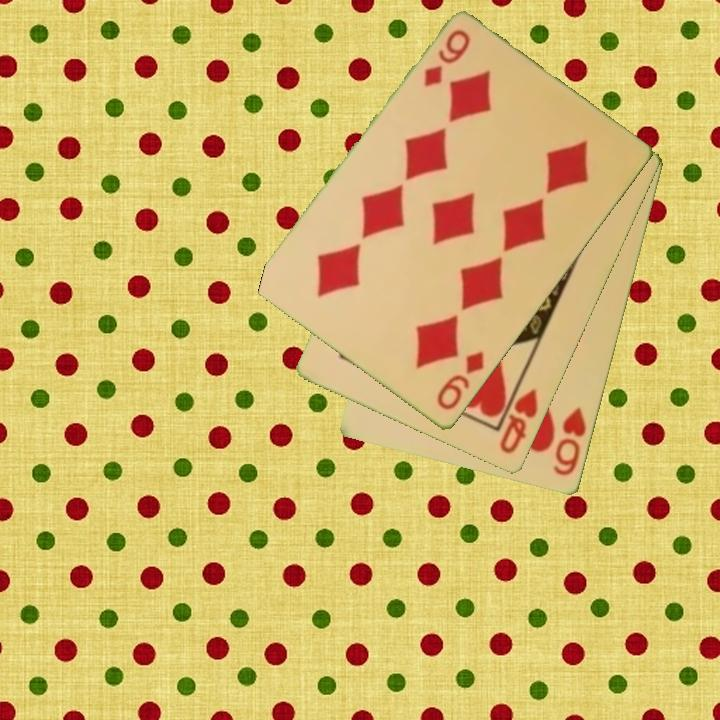6h: (550, 404, 590, 479)
9d: (433, 348, 488, 414), (420, 26, 474, 91)
Qh: (496, 385, 541, 457)
